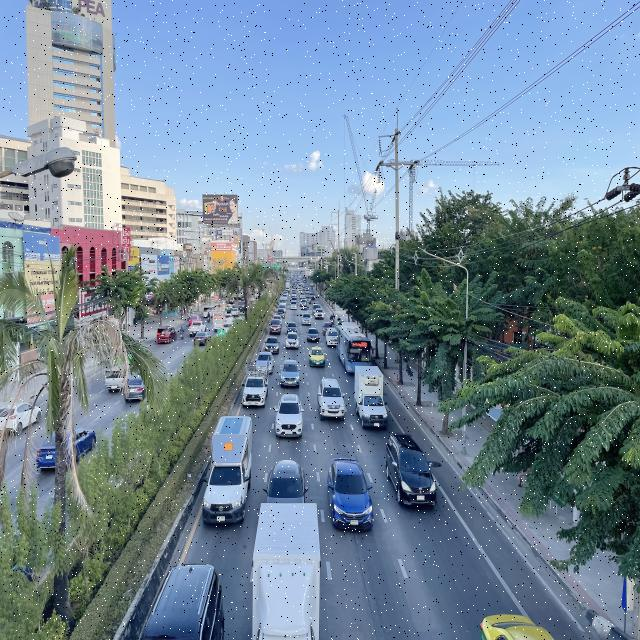bus: (337, 321, 373, 375)
car: (139, 557, 226, 640), (263, 459, 309, 503), (279, 359, 301, 388), (254, 351, 274, 374), (308, 346, 326, 367), (264, 336, 280, 354), (285, 332, 300, 349), (306, 327, 320, 343), (268, 319, 282, 335), (286, 320, 298, 335)
truck: (248, 502, 322, 640), (200, 412, 254, 527), (354, 365, 389, 430), (241, 355, 270, 408), (326, 327, 338, 347)
